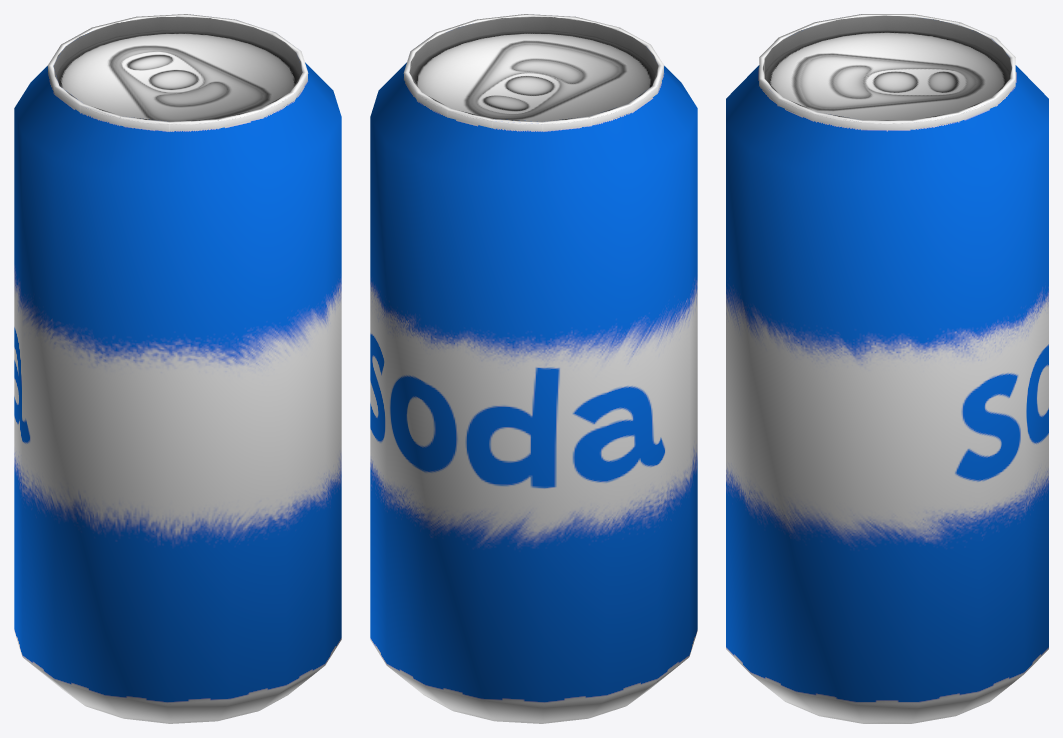
The model's file is sodablue_001.glb.
3 renders of one model, left to right at view 1: azimuth 30°, elevation 25°; view 2: azimuth 150°, elevation 25°; view 3: azimuth 270°, elevation 25°, orthographic.
Visible parts, largest first — view 1: sodablue.001; view 2: sodablue.001; view 3: sodablue.001.
Boxes of the visible parts, bbox=[...] form: sodablue.001: bbox=[14, 14, 341, 723]; sodablue.001: bbox=[370, 14, 697, 723]; sodablue.001: bbox=[726, 14, 1048, 723].
Size of the model in its own units: 0.5842 by 1.21 by 0.5842.
Materials: 1 (1 with a texture image).
